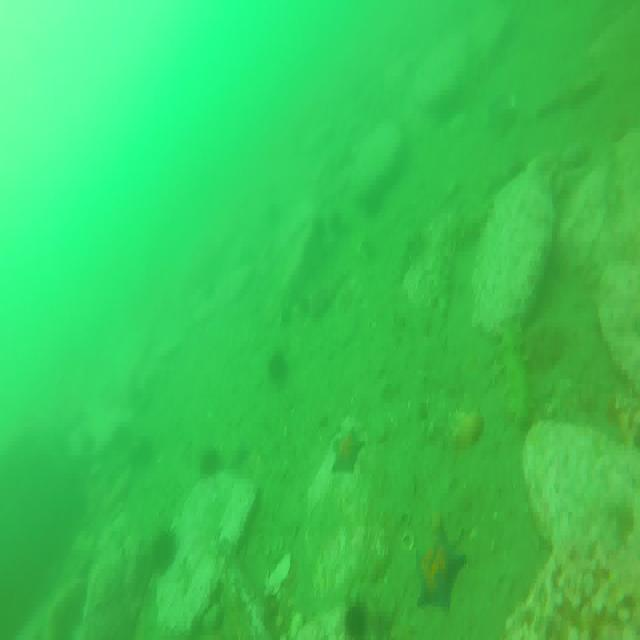echinus: (150, 537, 183, 576), (344, 601, 369, 638), (200, 447, 222, 480), (270, 351, 290, 386)
holothurian: (506, 323, 535, 424)
starfish: (418, 532, 465, 608), (331, 428, 362, 475)
